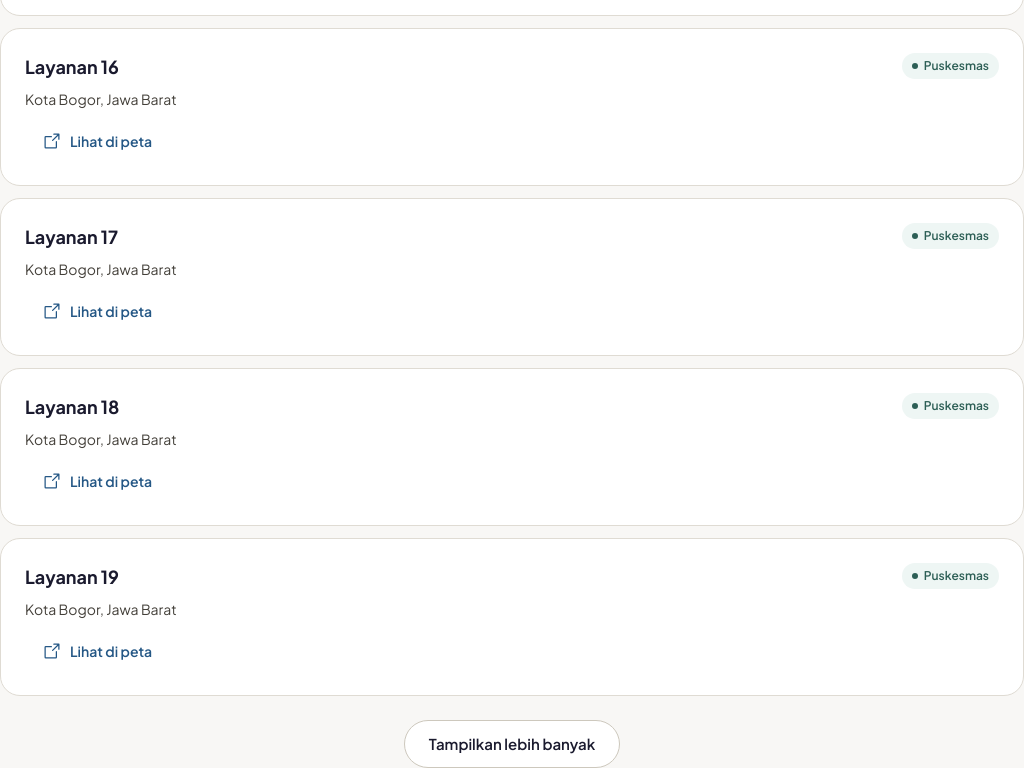
FacilityDirectory › banyak hasil: 20 pertama, lalu "Tampilkan lebih banyak" menambah 20
The width and height of the screenshot is (1024, 768).
(page scrolled)
Click the button "Tampilkan lebih banyak" at (512, 744), box [404,720,620,767]
(page scrolled)
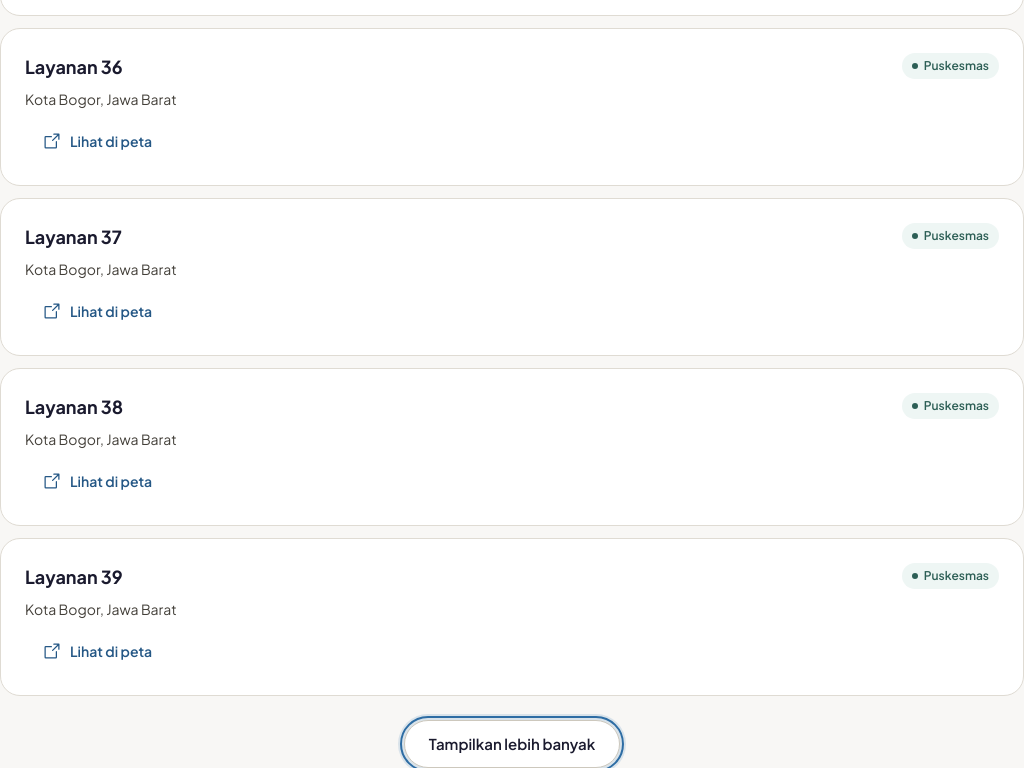
Click the button "Tampilkan lebih banyak" at (512, 744), box [404,720,620,767]
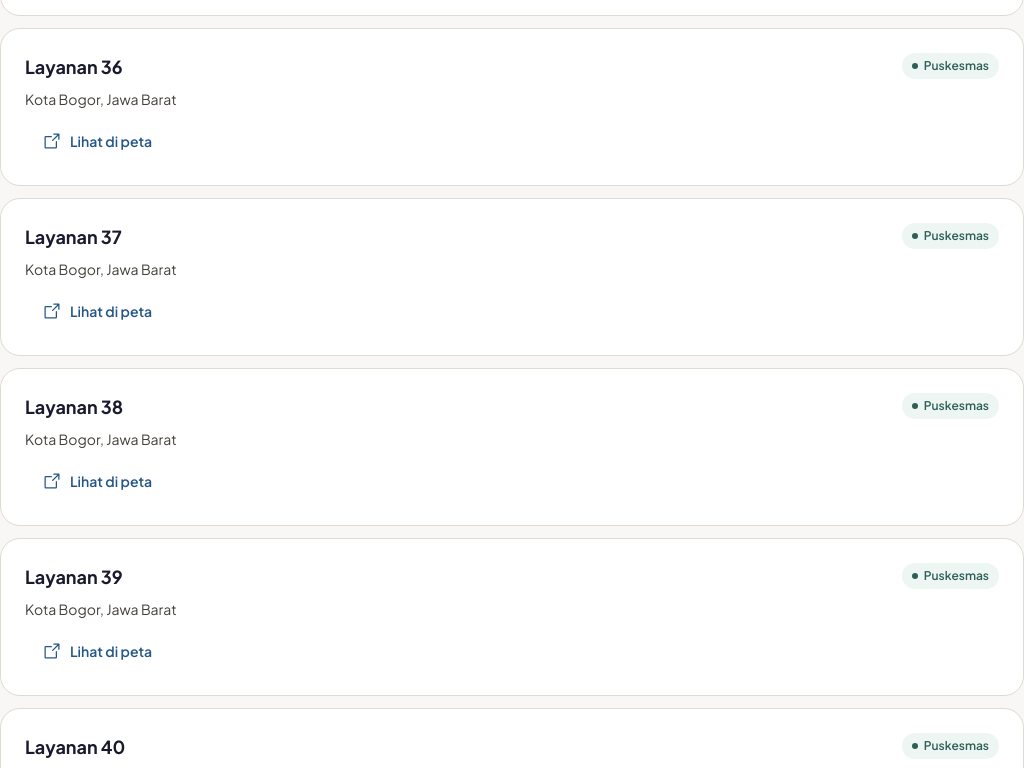
Check: the button "Tampilkan lebih banyak" is gone
